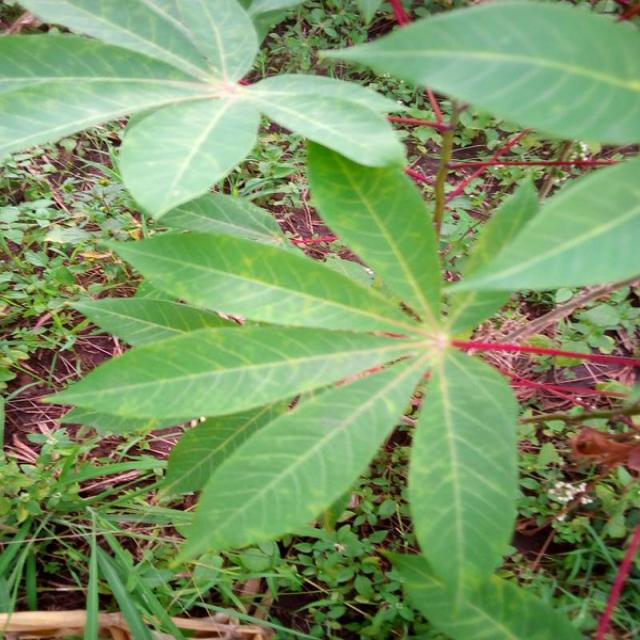cassava leaf: (2, 1, 638, 637), (0, 0, 408, 223), (318, 0, 639, 147)
